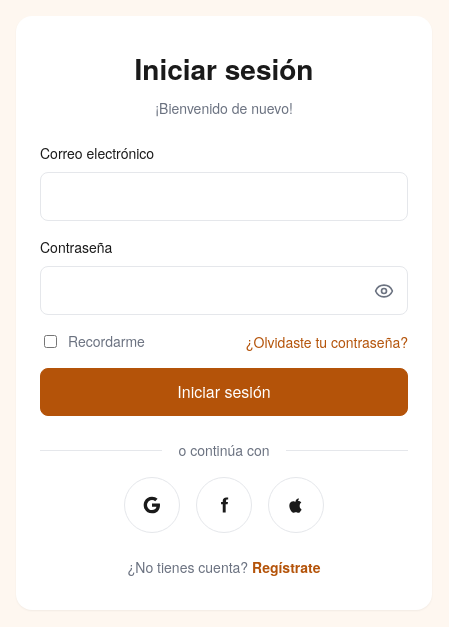
Test: verificación del segundo factor › lleva a verificar cuando el inicio de sesión abre una sesión provisional
In the field labelled "Correo electrónico": (224, 196) [40,172,408,221], type "erving@moica.test"
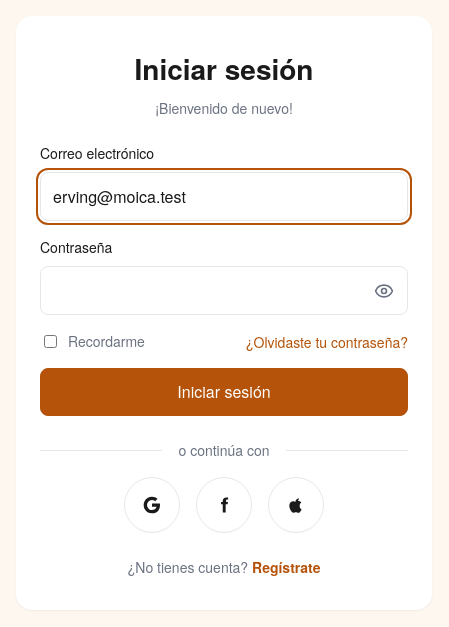
In the password field labelled "Contraseña": (224, 290) [40,266,408,315], type "Moica2026$segura"
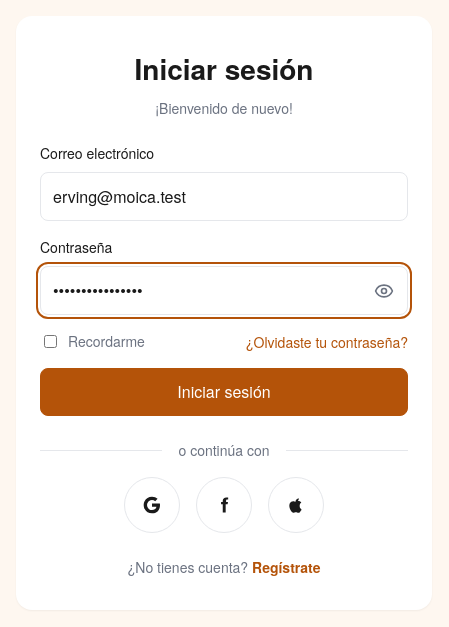
Click the button "Iniciar sesión": (224, 392) [40,368,408,416]
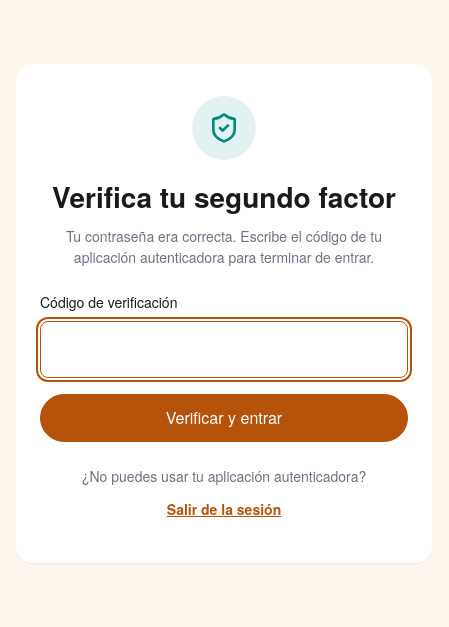
Result: the heading "Verifica tu segundo factor" is shown at [40,176,408,218]
